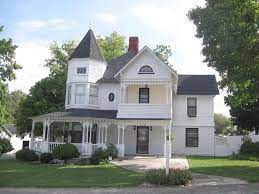Building House: (30, 26, 222, 154)
